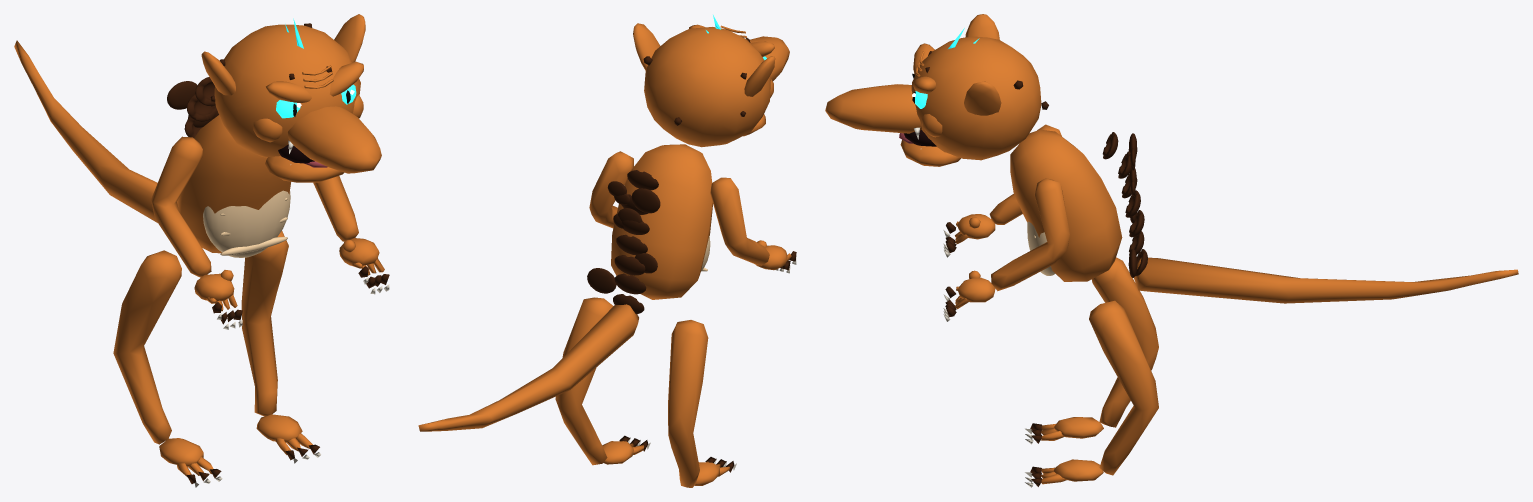
Rendered from loeber_0.glb.
3 views of the same model, side by side, from view 1: azimuth 30°, elevation 25°; view 2: azimuth 150°, elevation 25°; view 3: azimuth 270°, elevation 25° (orthographic). The views are drawn at different scales.
Parts seen in each view (by area): view 1: hoved_net, krop_net, benH_net, benV_net, armH_net, hale_net, armV_net; view 2: krop_net, hoved_net, hale_net, benH_net, benV_net, armH_net, armV_net; view 3: hoved_net, krop_net, hale_net, benV_net, benH_net, armV_net, armH_net.
Part boxes in pixels (x1=…): hoved_net: x1=201, y1=14, x2=381, y2=182; krop_net: x1=167, y1=77, x2=290, y2=257; benH_net: x1=113, y1=250, x2=222, y2=487; benV_net: x1=241, y1=231, x2=320, y2=463; armH_net: x1=151, y1=136, x2=242, y2=329; hale_net: x1=14, y1=40, x2=157, y2=222; armV_net: x1=313, y1=176, x2=389, y2=294; krop_net: x1=587, y1=144, x2=712, y2=314; hoved_net: x1=633, y1=15, x2=789, y2=147; hale_net: x1=418, y1=304, x2=638, y2=431; benH_net: x1=668, y1=320, x2=736, y2=487; benV_net: x1=555, y1=297, x2=650, y2=465; armH_net: x1=710, y1=177, x2=796, y2=273; armV_net: x1=589, y1=151, x2=633, y2=228; hoved_net: x1=825, y1=14, x2=1048, y2=166; krop_net: x1=1010, y1=129, x2=1147, y2=281; hale_net: x1=1134, y1=257, x2=1518, y2=303; benV_net: x1=1025, y1=300, x2=1158, y2=487; benH_net: x1=1025, y1=257, x2=1158, y2=444; armV_net: x1=943, y1=178, x2=1069, y2=321; armH_net: x1=943, y1=124, x2=1061, y2=257.
Size of the model in its own units: 0.7618 by 1.96 by 2.84.
